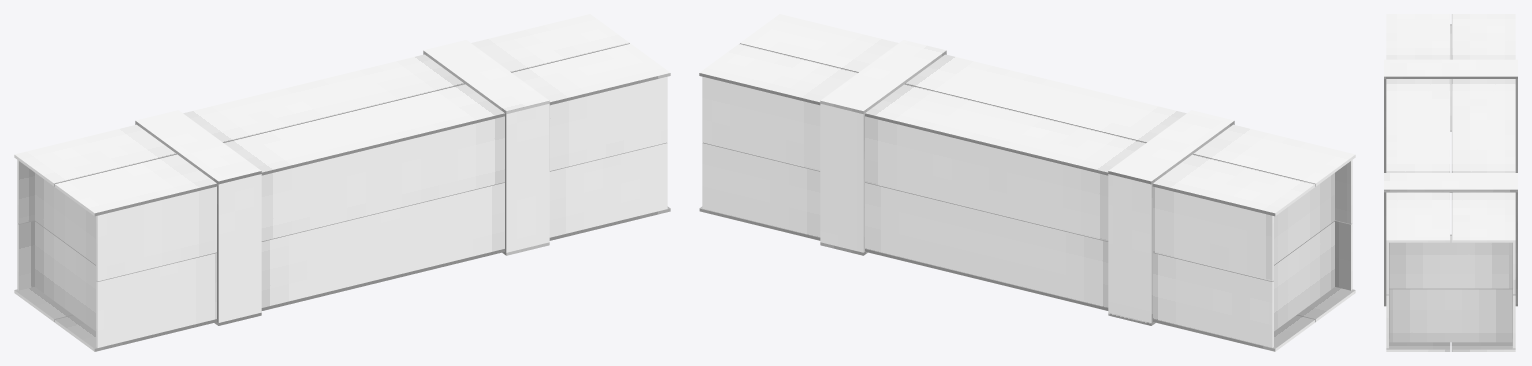
Rendered from CrateWoodenOblong.glb.
3 renders of one model, left to right at view 1: azimuth 30°, elevation 25°; view 2: azimuth 150°, elevation 25°; view 3: azimuth 270°, elevation 25°, orthographic. The views are drawn at different scales.
Parts seen in each view (by area): view 1: CrateWoodenOblong; view 2: CrateWoodenOblong; view 3: CrateWoodenOblong.
Part boxes in pixels (left/top/right/bottom): CrateWoodenOblong: left=14, top=14, right=670, bottom=351; CrateWoodenOblong: left=699, top=14, right=1355, bottom=351; CrateWoodenOblong: left=1384, top=14, right=1517, bottom=351.
Bounding box in the file's own units: 1 × 0.24 × 0.25.
Materials: 1 (1 with a texture image).
